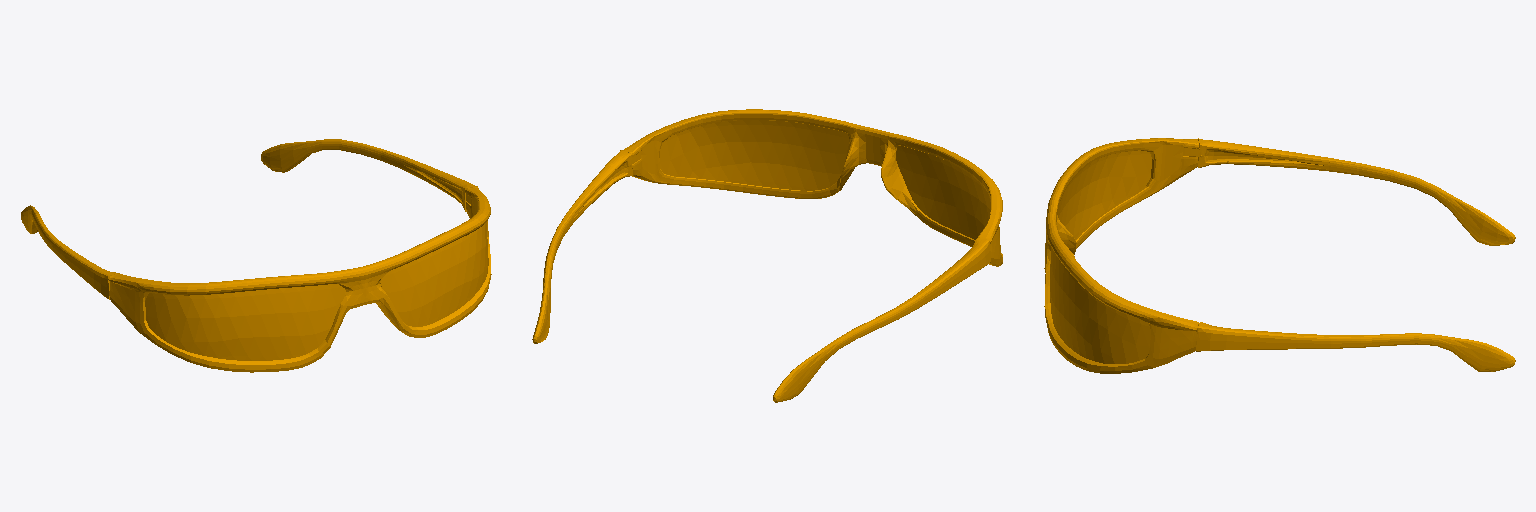
URDF robot description (none):
<robot name="none">
       <link name="none">
           <visual>
               <origin rpy="1.57 0 0" xyz="0 0 0" />
               <geometry>
                   <mesh filename="sunglasses.obj" />
               </geometry>
           </visual>
          <collision>
              <geometry>
                  <box size="0.959274 0.222281 1.000000" />
              </geometry>
          </collision>

          <inertial>
            <mass value="0.0" />
            <inertia ixx="0.0" ixy="0.0" ixz="0.0" iyy="0.0" iyz="0.0" izz="0.0" />
          </inertial>
      </link>
  </robot>

--- Render facts (derived) ---
3 views of the same robot in one strip: view 1: azimuth 30°, elevation 25°; view 2: azimuth 150°, elevation 25°; view 3: azimuth 270°, elevation 25° (orthographic).
Model none with 1 links and 0 joints (none), rooted at none, posed every joint at zero.
Links seen in each view (by area): view 1: none; view 2: none; view 3: none.
Link boxes in pixels (left/top/right/bottom): none: left=21, top=139, right=491, bottom=372; none: left=532, top=109, right=1002, bottom=402; none: left=1044, top=138, right=1515, bottom=373.
Bounding box of the posed robot: 0.9593 × 1 × 0.223 m (x, y, z).
1 mesh visuals loaded from 1 distinct referenced files (1 OBJ).